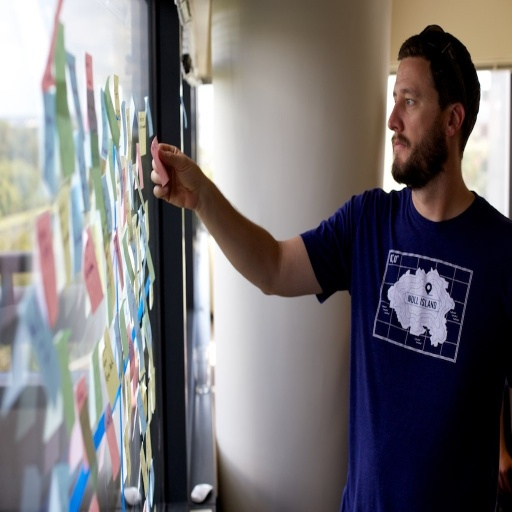hand: (149, 141, 204, 211), (497, 449, 511, 494)
